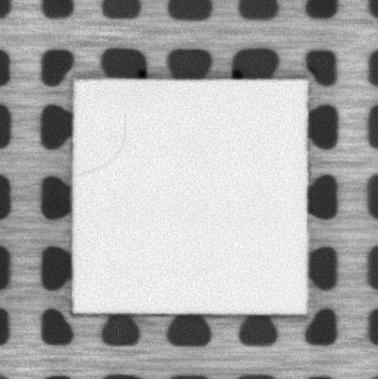DIE_CRACK: (81, 113, 128, 177)
